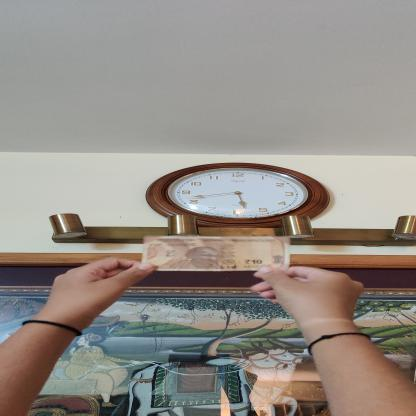New10Front: (143, 236, 291, 271)
